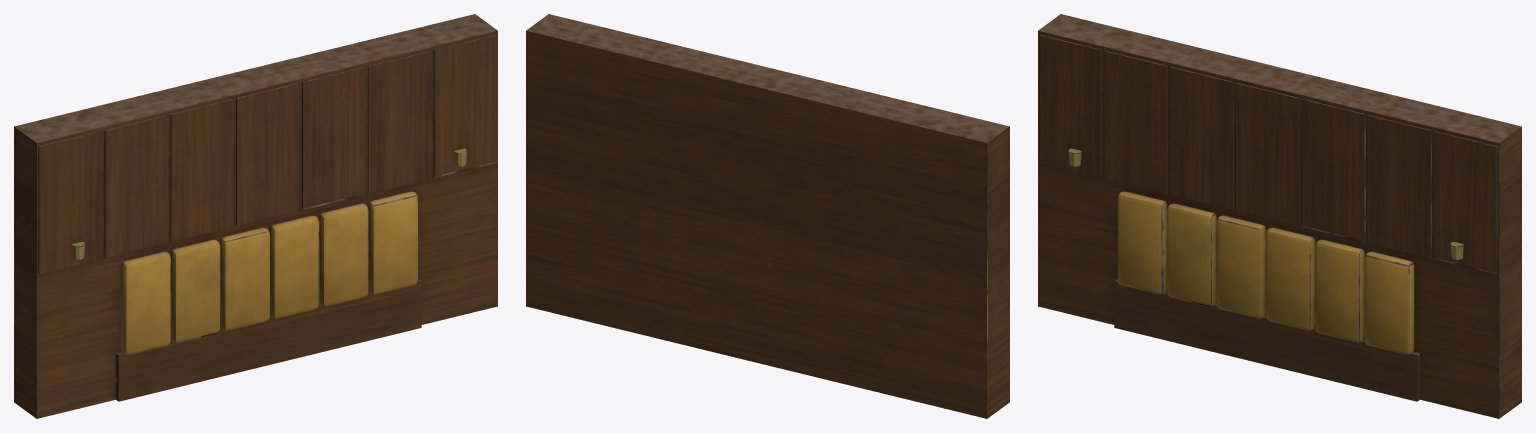
Rendered from H_HeadboardWall.fbx.
The picture shows the model from 3 angles, left to right: view 1: azimuth 30°, elevation 25°; view 2: azimuth 150°, elevation 25°; view 3: azimuth 330°, elevation 25°; orthographic projection.
Parts seen in each view (by area): view 1: H_HeadboardWall; view 2: H_HeadboardWall; view 3: H_HeadboardWall.
Part boxes in pixels (x1,y1,x2,y2): H_HeadboardWall: (14, 14, 497, 418); H_HeadboardWall: (526, 14, 1009, 418); H_HeadboardWall: (1038, 14, 1521, 418).
Size of the model in its own units: 1400 by 800 by 150.
1 material, 1 textured.
